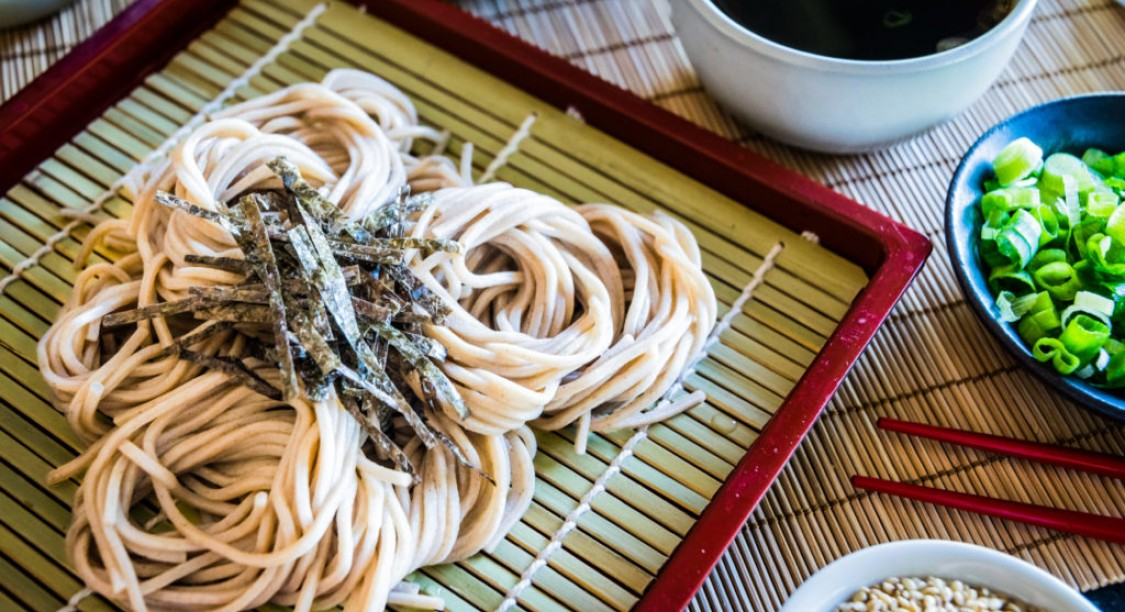Soba: (46, 91, 743, 610)
